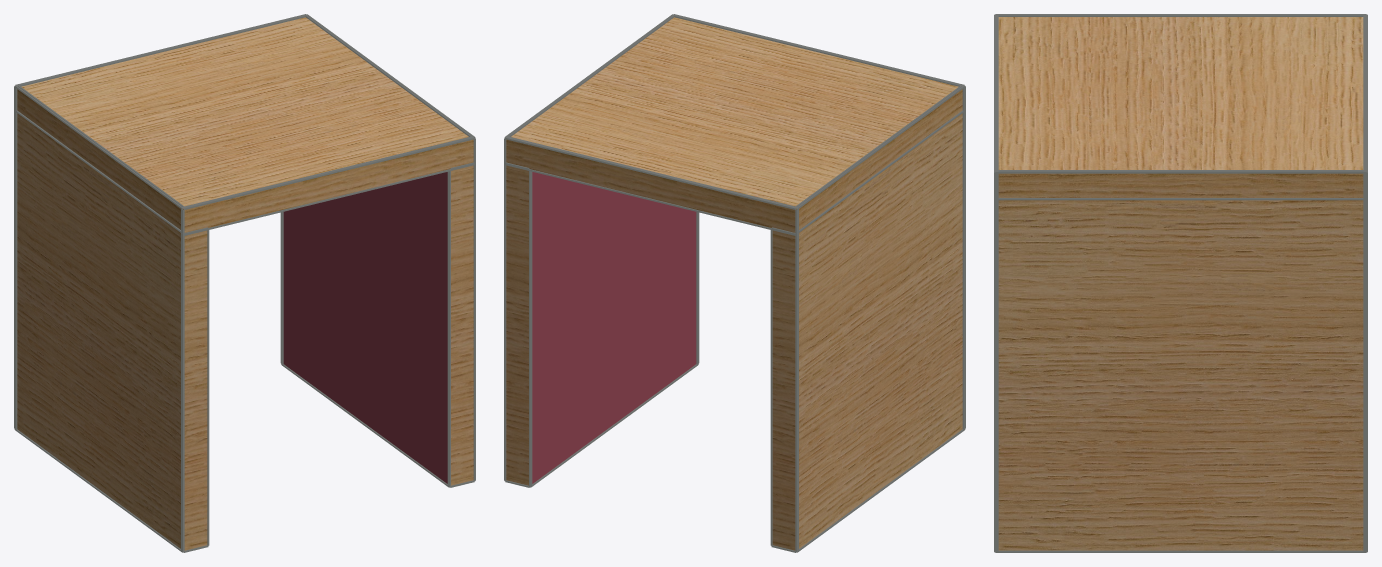
Rendered from modell.glb.
3 renders of one model, left to right at view 1: azimuth 30°, elevation 25°; view 2: azimuth 150°, elevation 25°; view 3: azimuth 270°, elevation 25°, orthographic. The views are drawn at different scales.
Visible parts, largest first — view 1: 2026 198 Krakk rektangulaer; view 2: 2026 198 Krakk rektangulaer; view 3: 2026 198 Krakk rektangulaer.
Part boxes in pixels (<box>): 2026 198 Krakk rektangulaer: <box>14,14,475,552</box>; 2026 198 Krakk rektangulaer: <box>504,14,965,552</box>; 2026 198 Krakk rektangulaer: <box>994,14,1367,552</box>.
Bounding box in the file's own units: 404 × 454 × 403.
Materials: 5 (2 with a texture image).
